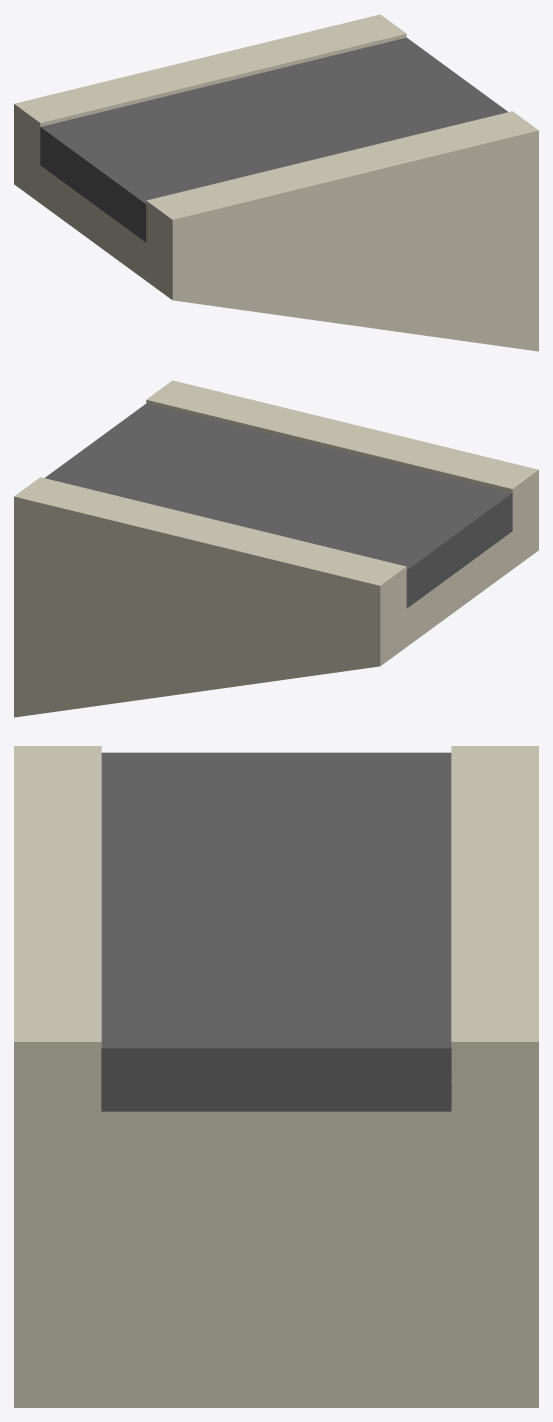
File: tile184.dae
3 views of the same model, one above another, from view 1: azimuth 30°, elevation 25°; view 2: azimuth 150°, elevation 25°; view 3: azimuth 270°, elevation 25° (orthographic). The views are drawn at different scales.
Parts seen in each view (by area): view 1: tile184; view 2: tile184; view 3: tile184.
Boxes of the visible parts, x1,y1,x2,y2 form: tile184: [14, 14, 538, 351]; tile184: [14, 380, 538, 717]; tile184: [14, 746, 538, 1407].
Bounding box in the file's own units: 1 × 0.5767 × 0.75.
